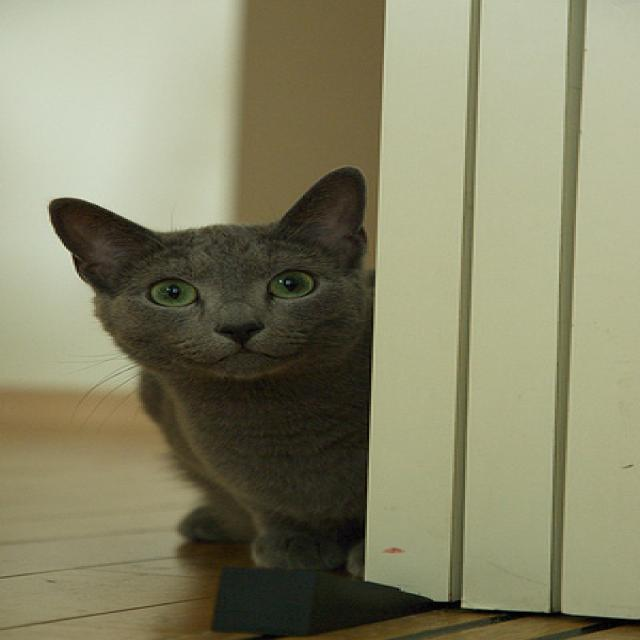Russian Blue: (39, 162, 370, 570)
